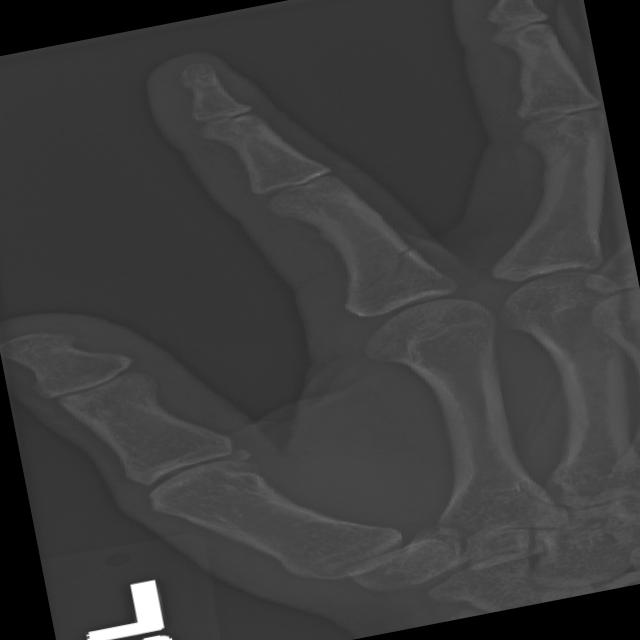fingers positive: (350, 230, 448, 345)
